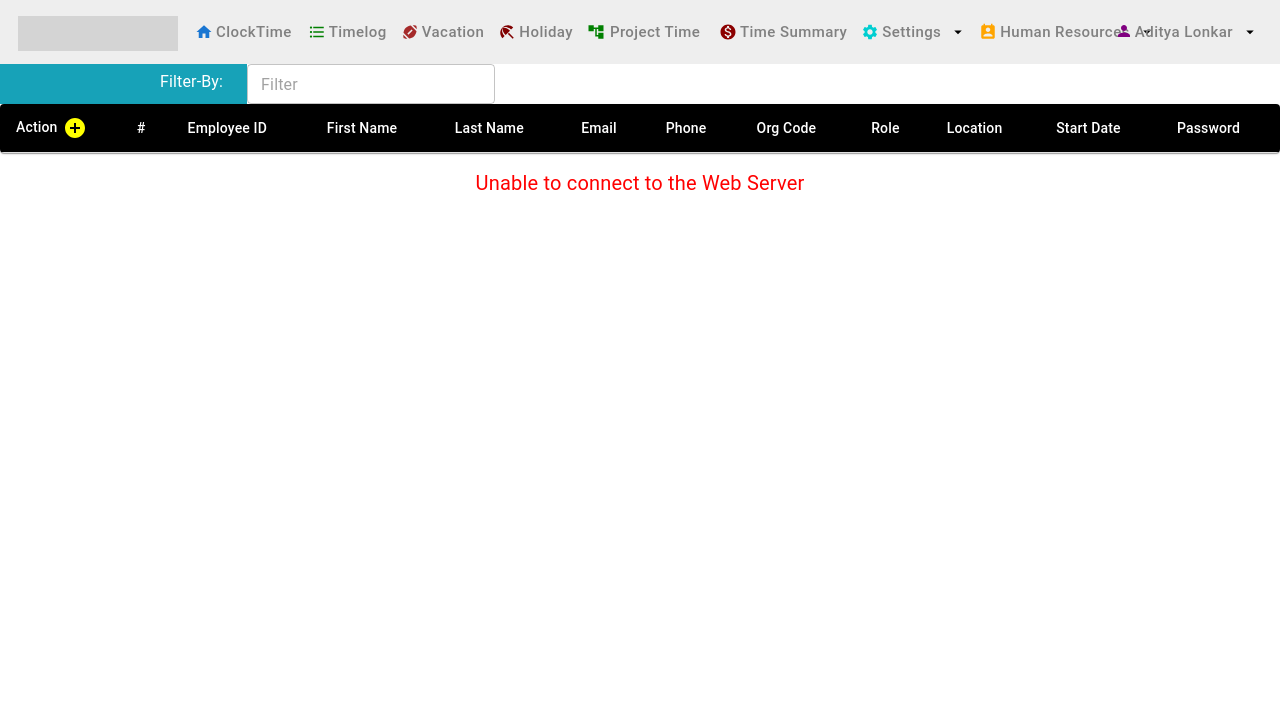
Scenario: Click the action button and verify if all fields are present and then submit the form without filling and check for the Yup error
Click the button with test id "Action" at (75, 128), box [43,110,107,146]
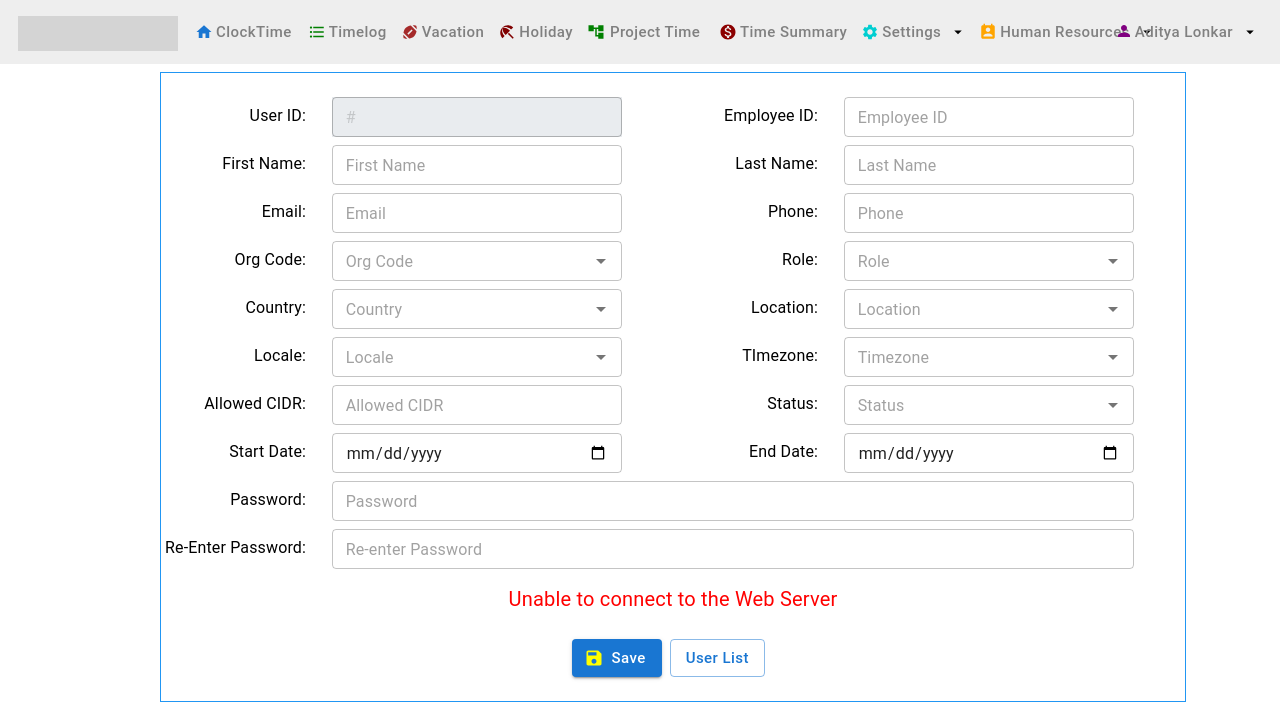
Check: the button with test id "Save" is shown
Click the button with test id "Save" at (617, 658), box [572,639,662,678]
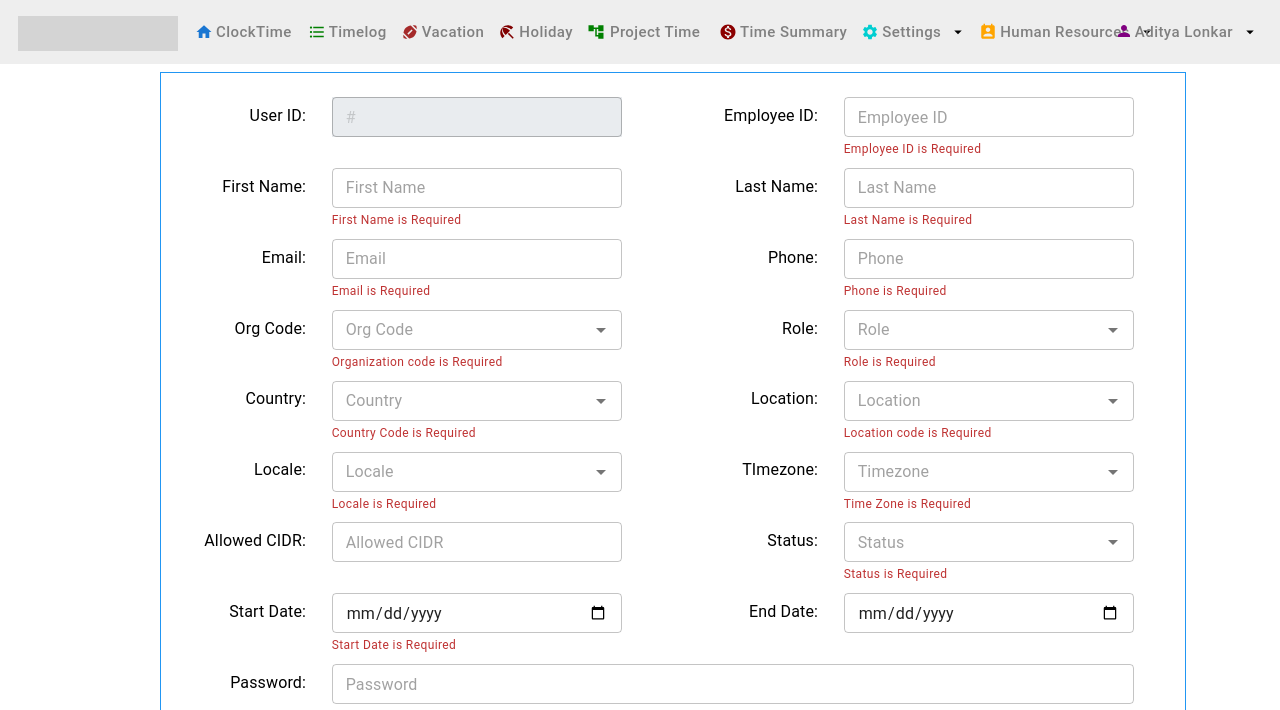
Check: the text "Employee ID is Required" is shown 14 times
